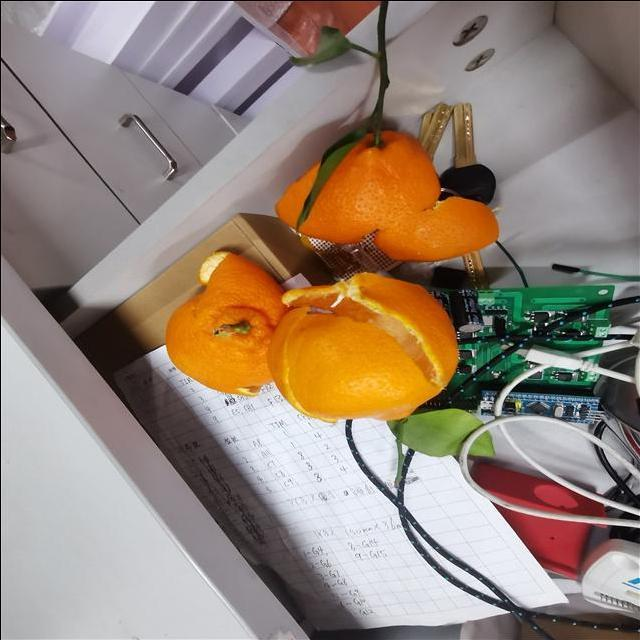orange peel: (273, 119, 509, 260), (275, 278, 462, 423), (166, 247, 282, 398)
